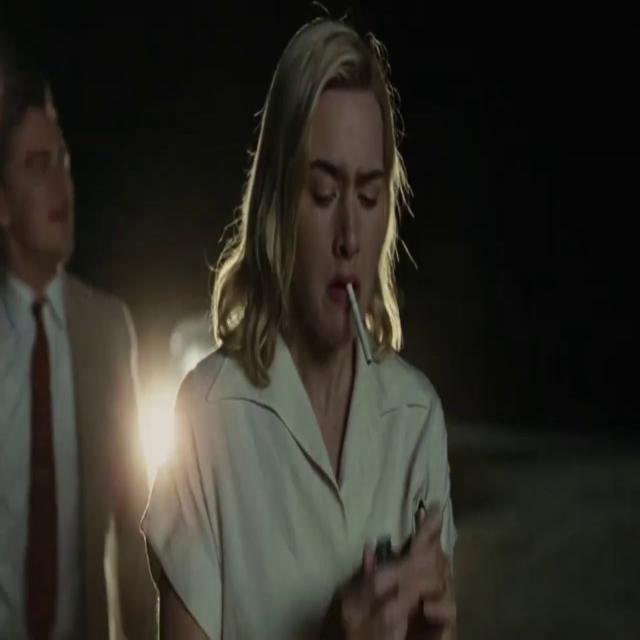Smooking: (342, 273, 380, 384)
